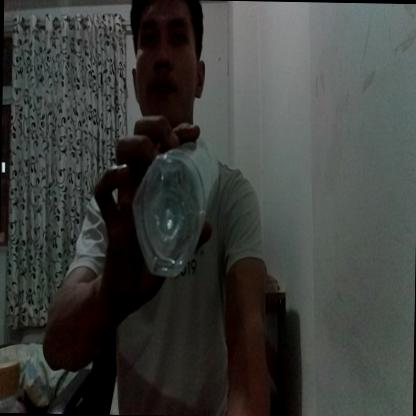plastic_bottles: (132, 141, 219, 276)
